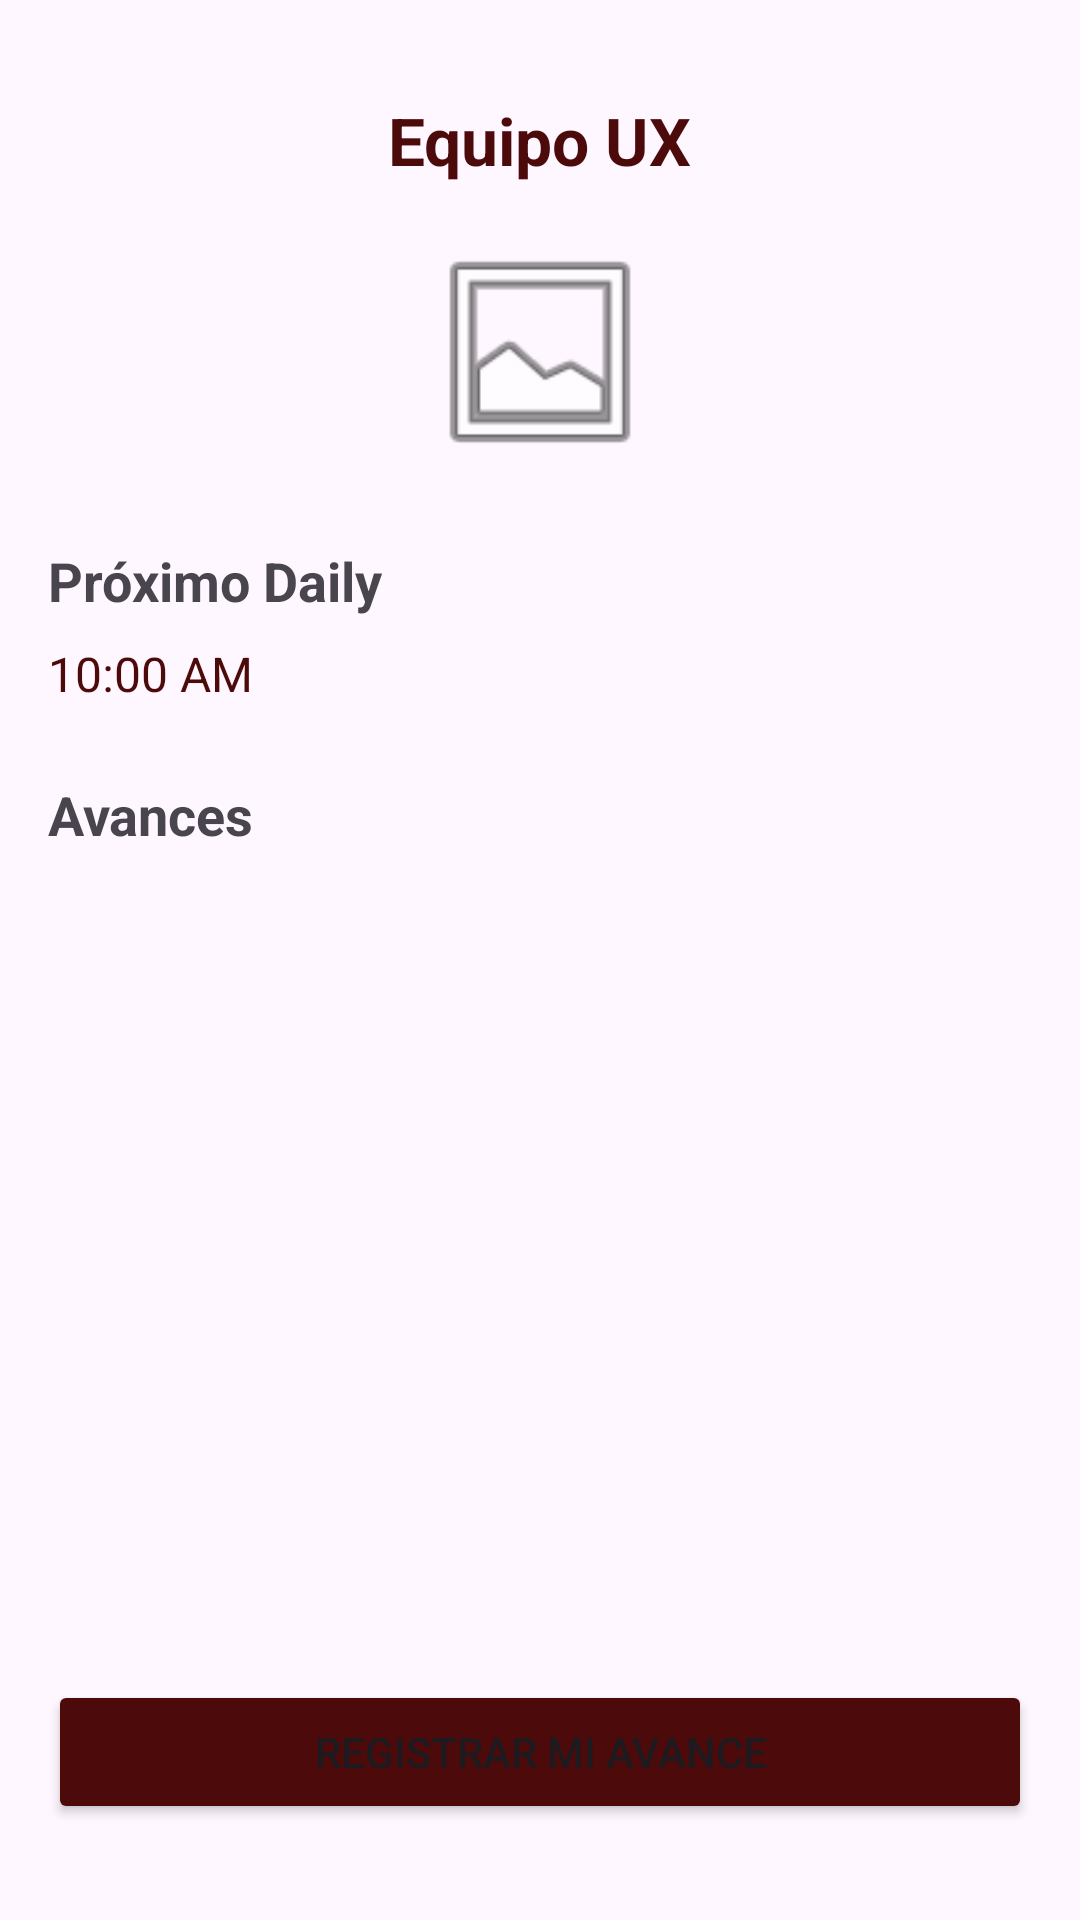

Screen size 1080px×1920px. Icon name, then its center in pixels as point (x, y):
gallery: point (540, 352)
